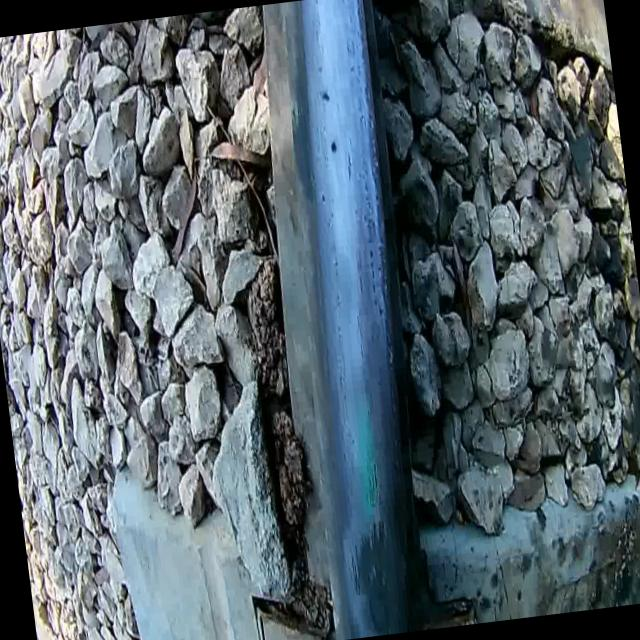Flakings: (334, 0, 425, 494)
Grooves: (344, 530, 369, 608), (360, 451, 386, 502)
Spallings: (315, 80, 338, 114), (322, 131, 343, 161)
Squats: (342, 509, 418, 638)
